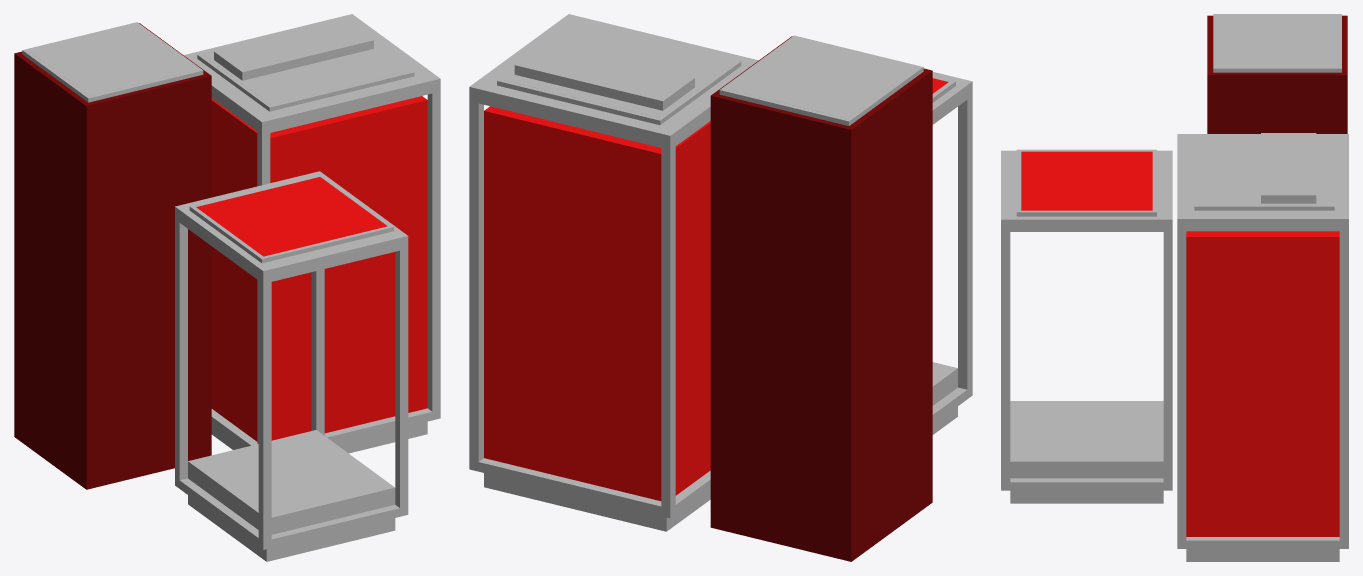
The model's file is CN Global Counter_Front_Desk001.FBX.
The picture shows the model from 3 angles, left to right: view 1: azimuth 30°, elevation 25°; view 2: azimuth 150°, elevation 25°; view 3: azimuth 270°, elevation 25°; orthographic projection. The views are drawn at different scales.
Visible parts, largest first — view 1: CN Global Counter_Front_Desk001; view 2: CN Global Counter_Front_Desk001; view 3: CN Global Counter_Front_Desk001.
Boxes of the visible parts, box(x1,y1,x2,y2) form: CN Global Counter_Front_Desk001: box(14, 14, 440, 561); CN Global Counter_Front_Desk001: box(469, 14, 972, 561); CN Global Counter_Front_Desk001: box(1001, 14, 1348, 561).
Bounding box in the file's own units: 42.95 × 49.09 × 39.32.
